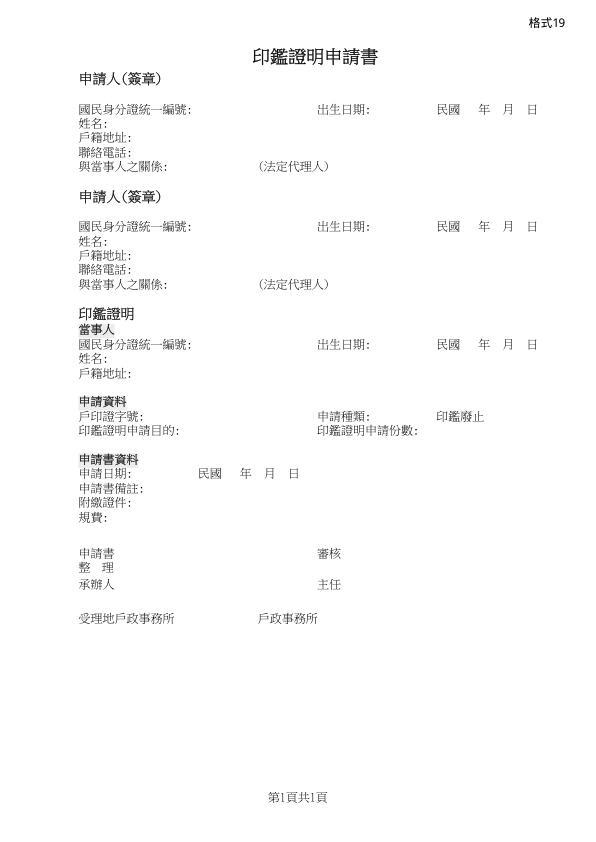text: (72, 451, 313, 527), (64, 66, 202, 180), (74, 186, 208, 299), (71, 305, 200, 384), (315, 405, 497, 445), (77, 390, 184, 443), (315, 216, 548, 240), (315, 99, 542, 122), (313, 337, 543, 358), (249, 41, 384, 74), (74, 542, 132, 593), (70, 607, 179, 631), (313, 538, 354, 594), (257, 274, 333, 299), (254, 607, 323, 634), (255, 155, 335, 175)
